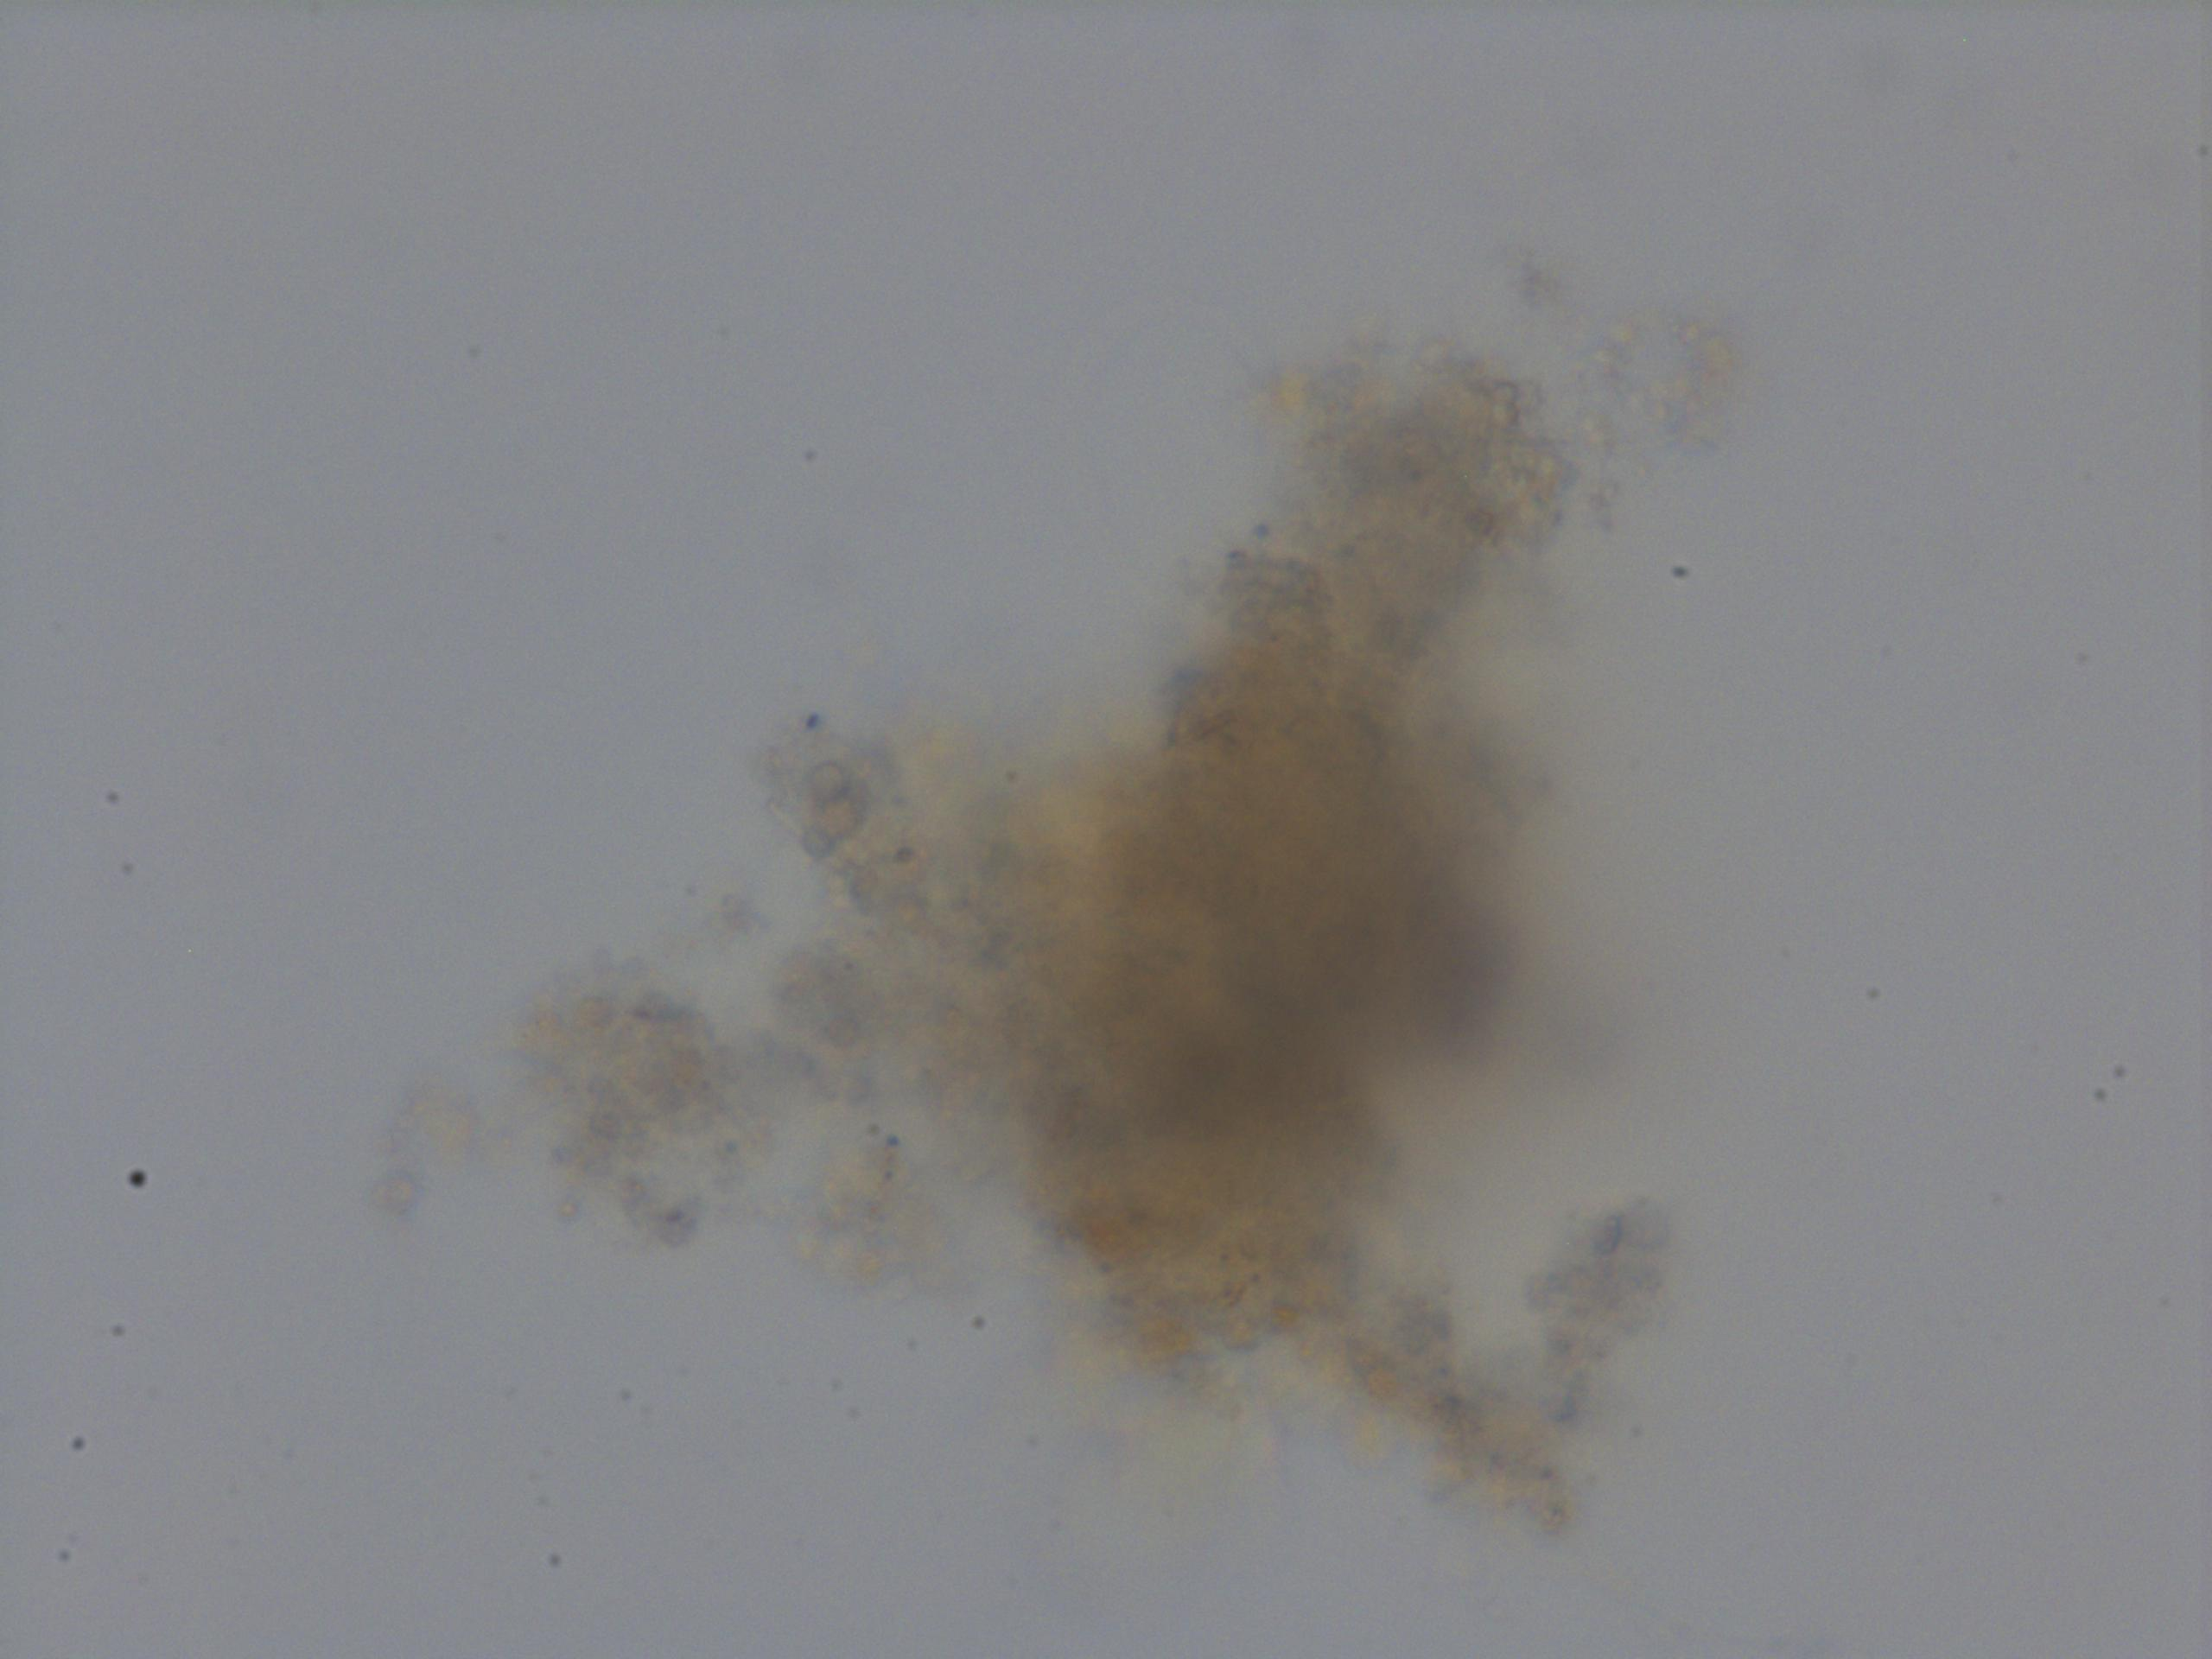open_floc: (519, 329, 1662, 1591)
